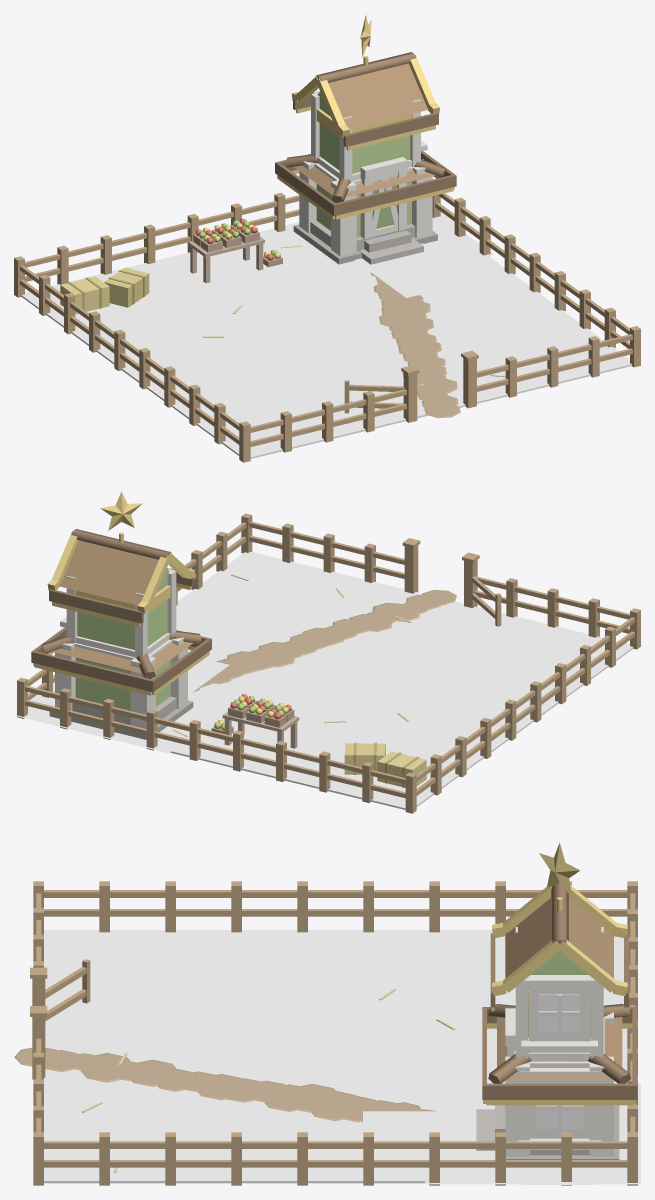
File: orchard_2.glb
3 renders of one model, top to bottom at view 1: azimuth 30°, elevation 25°; view 2: azimuth 150°, elevation 25°; view 3: azimuth 270°, elevation 25°, orthographic. The views are drawn at different scales.
Visible parts, largest first — view 1: body6, orchard_2, body5; view 2: body6, orchard_2, body5, body3, body4; view 3: body6, orchard_2.
Part boxes in pixels (x1,y1,x2,y2): body6: (14,15,640,462); orchard_2: (259,212,493,297); body5: (230,218,282,267); body6: (17,491,640,813); orchard_2: (14,659,250,753); body5: (211,694,257,733); body3: (264,703,294,727); body4: (246,698,275,723); body6: (14,843,637,1185); orchard_2: (363,1084,640,1184).
Bounding box in the file's own units: 2.73 × 1.45 × 2.8.
